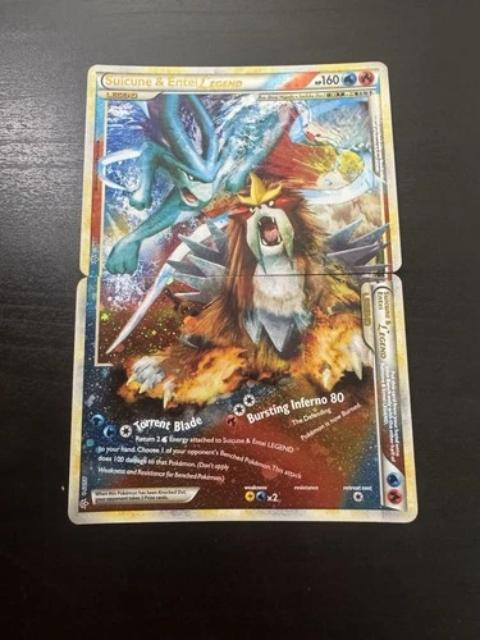Card: (64, 272, 421, 528), (77, 57, 408, 278)
Name: (100, 73, 247, 92), (370, 287, 398, 367)
